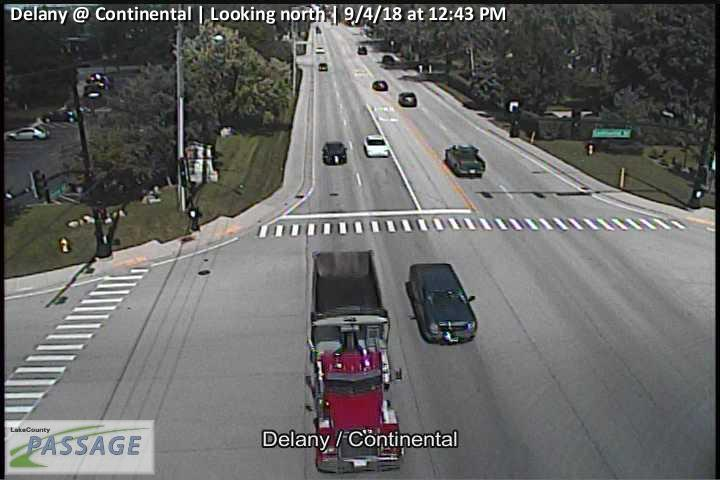SUV: (445, 143, 485, 179), (398, 91, 417, 107)
Sedan: (408, 263, 478, 344), (4, 126, 50, 142), (363, 134, 389, 158), (322, 141, 348, 165), (373, 80, 388, 91)
Truck: (303, 249, 403, 473)
